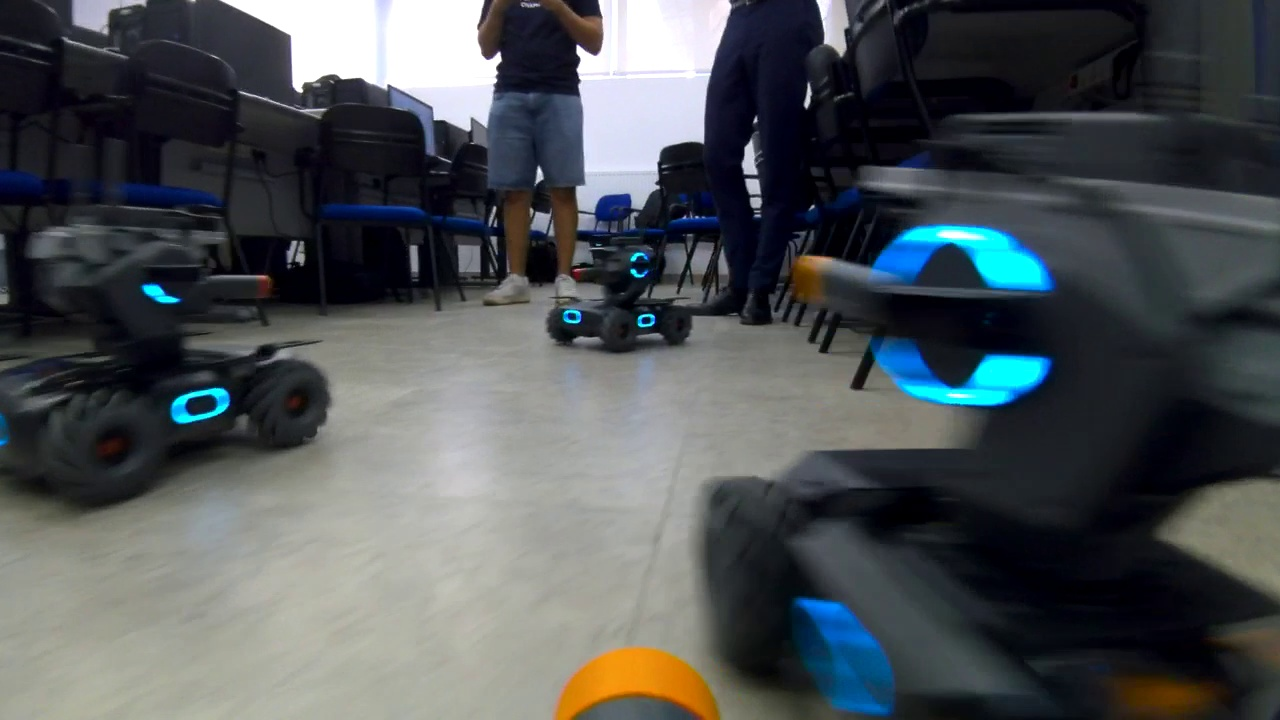robot: (12, 227, 338, 505), (541, 230, 706, 353)
